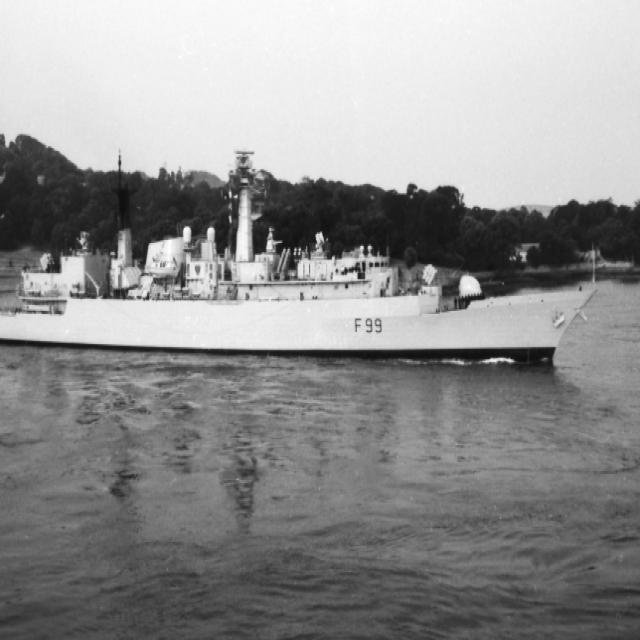Fragata: (1, 131, 605, 372)
